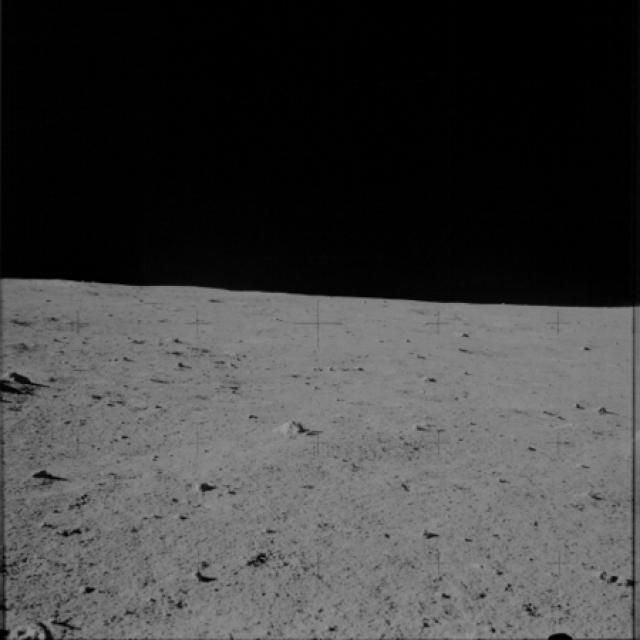crater: (449, 337, 614, 374)
rock: (270, 412, 316, 449), (0, 362, 49, 393), (21, 457, 56, 491), (175, 561, 216, 589), (186, 475, 215, 500), (592, 398, 618, 419), (411, 421, 431, 442)
